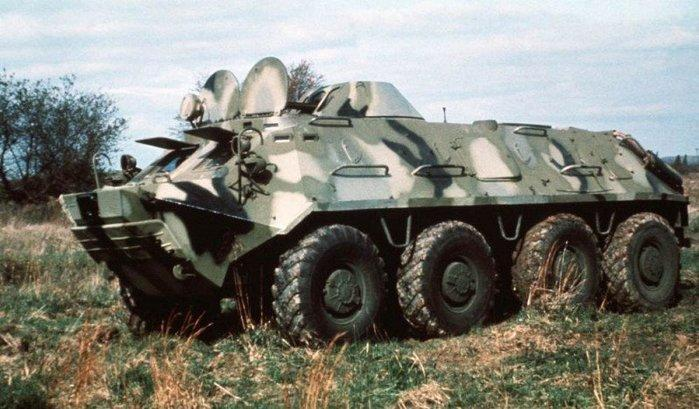MIL_IFV: (59, 56, 689, 352)
